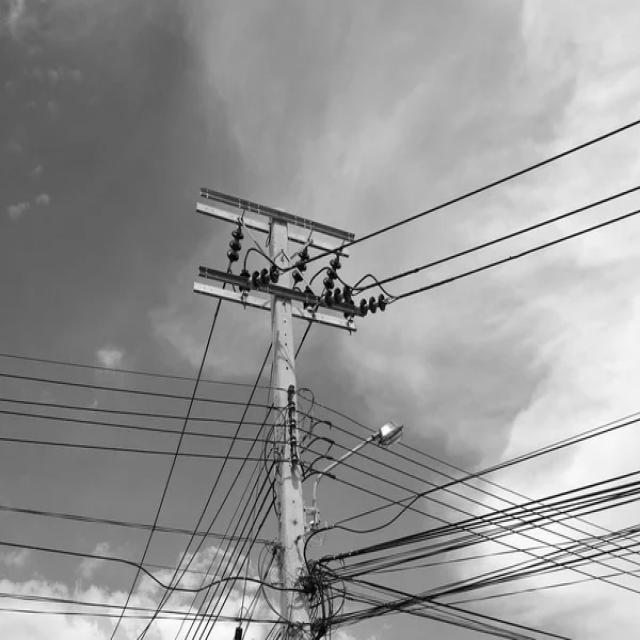Pole: (271, 296, 311, 640)
